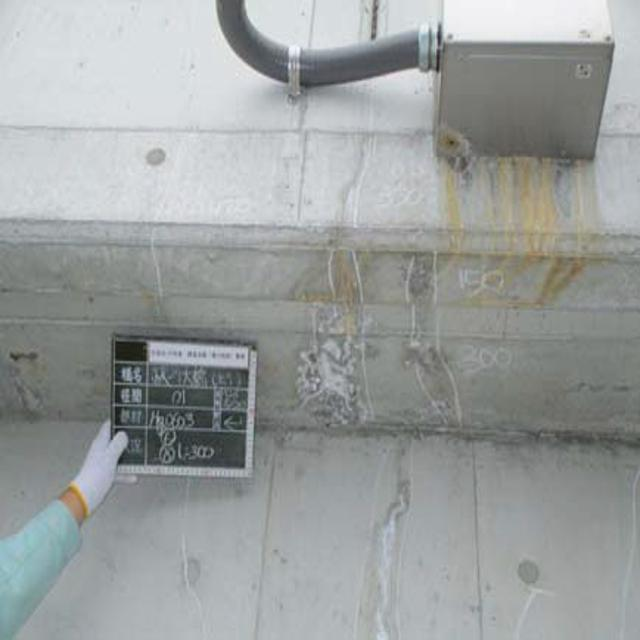freelime: (297, 302, 374, 438), (366, 490, 401, 634)
